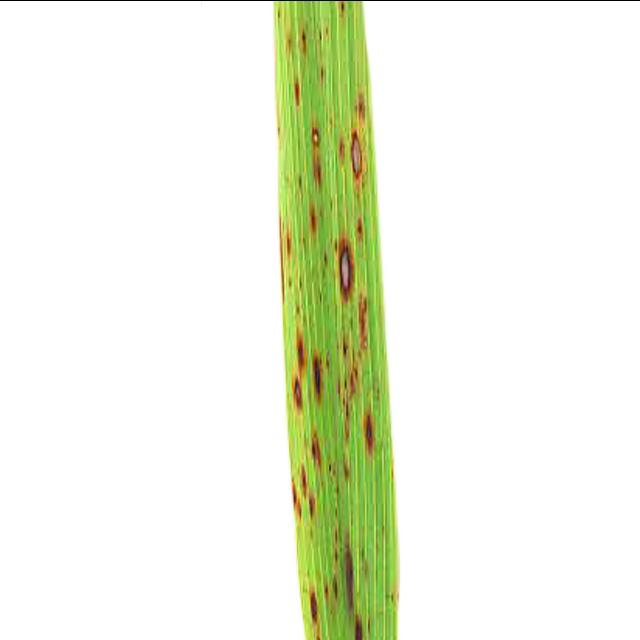Brown spot: (232, 0, 438, 640)
